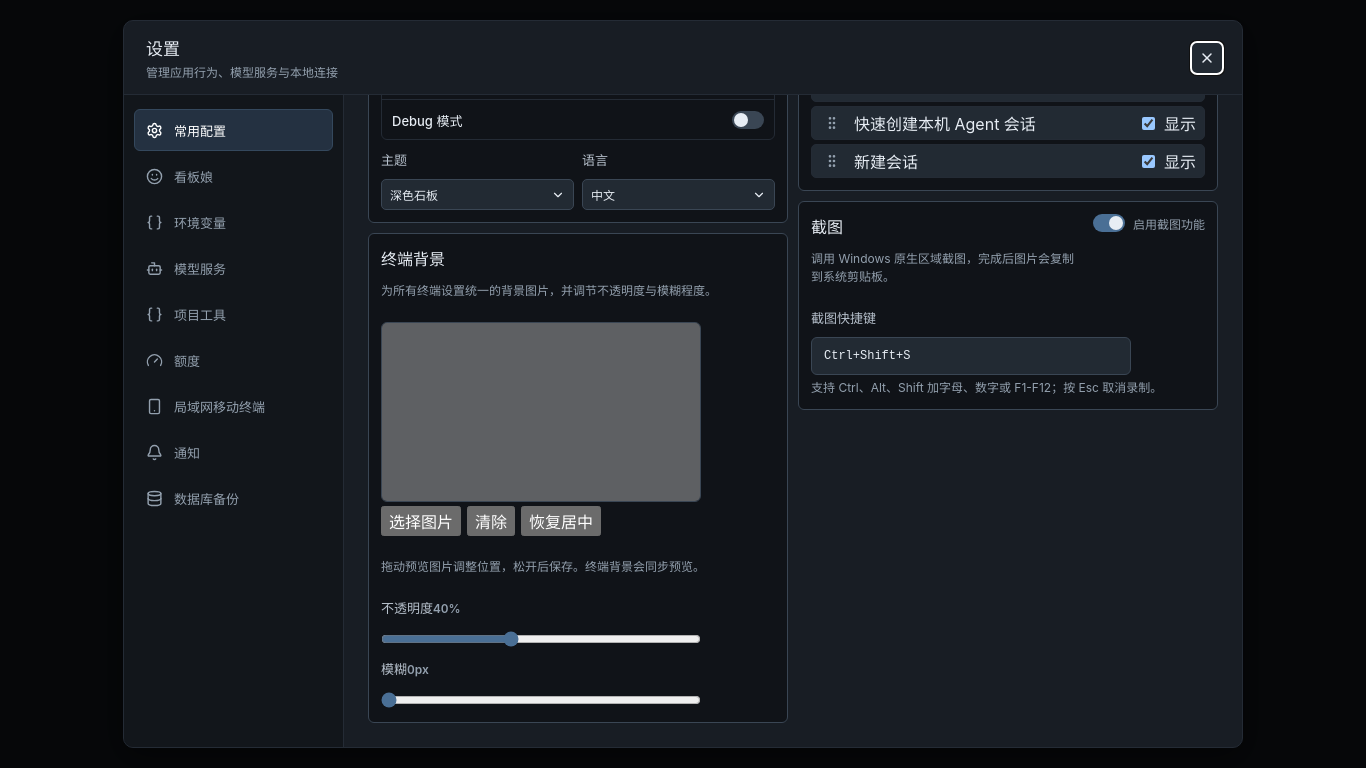
SettingsModal navigation › shows a retryable error when centering cannot be saved
(page scrolled)
Click the button "恢复居中".
click(561, 521)  # box [521,506,601,536]
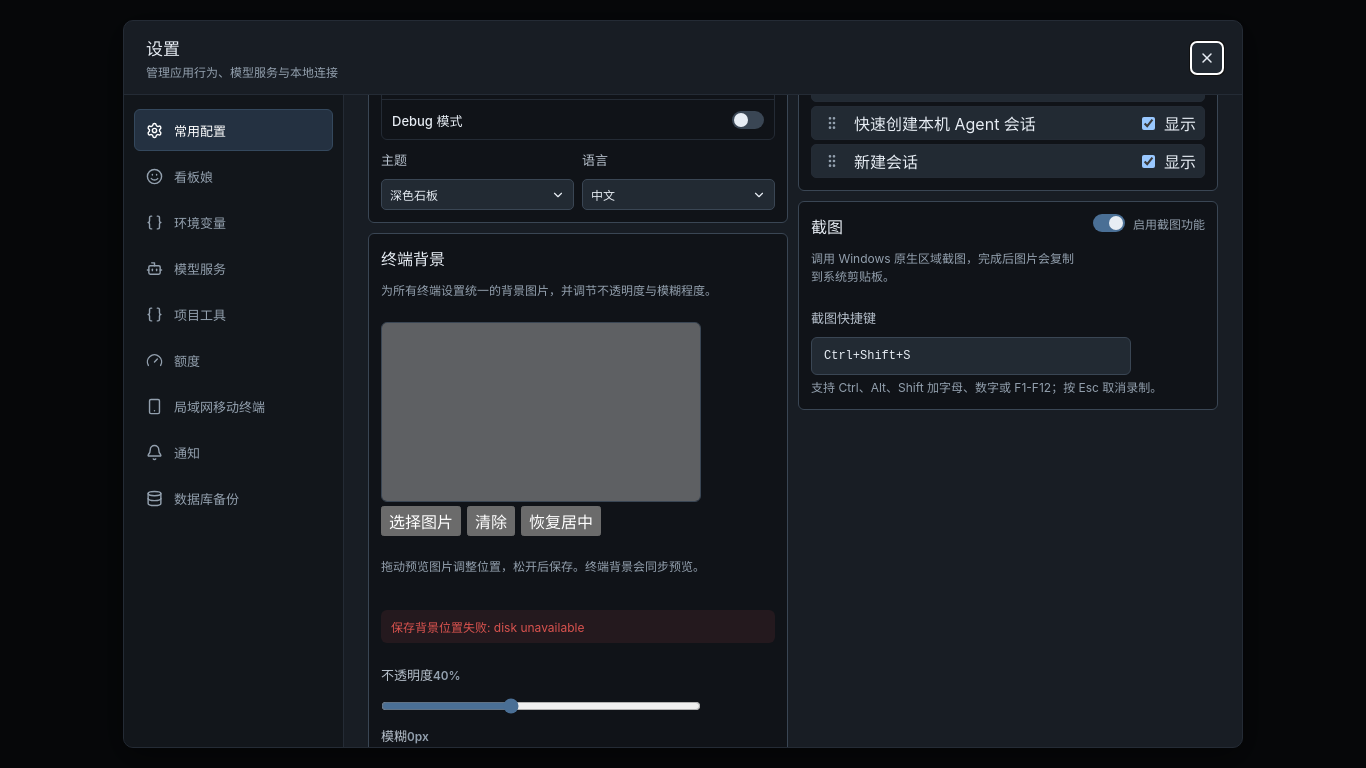
expect the message reads "保存背景位置失败: disk unavailable": met, box [381,610,775,643]
